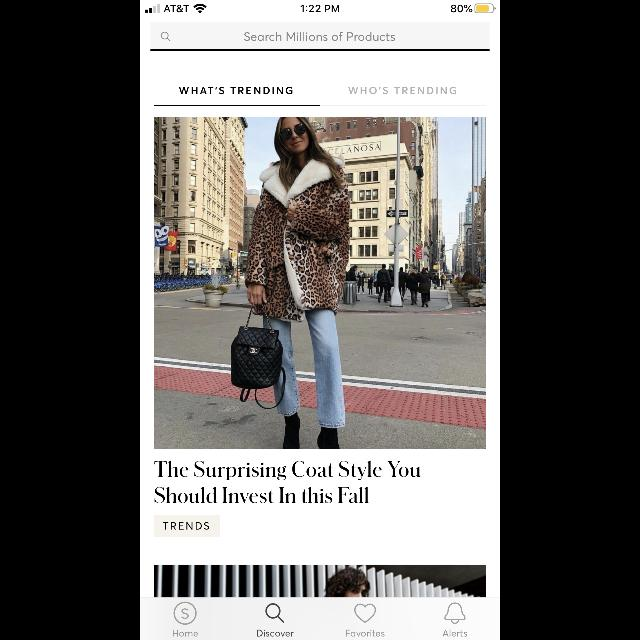icon: (444, 602, 466, 624), (354, 604, 376, 622), (266, 603, 284, 623), (161, 32, 171, 42)
image: (156, 117, 487, 449), (154, 564, 486, 598), (175, 602, 198, 624)
input: (150, 22, 490, 52)
text: (155, 461, 421, 504), (244, 32, 396, 42), (179, 87, 293, 95), (348, 87, 456, 95), (346, 630, 384, 636), (258, 630, 294, 636), (442, 630, 468, 636), (174, 630, 198, 636)
textbutton: (154, 515, 220, 537)
uppertaskbar: (140, 0, 500, 14)
